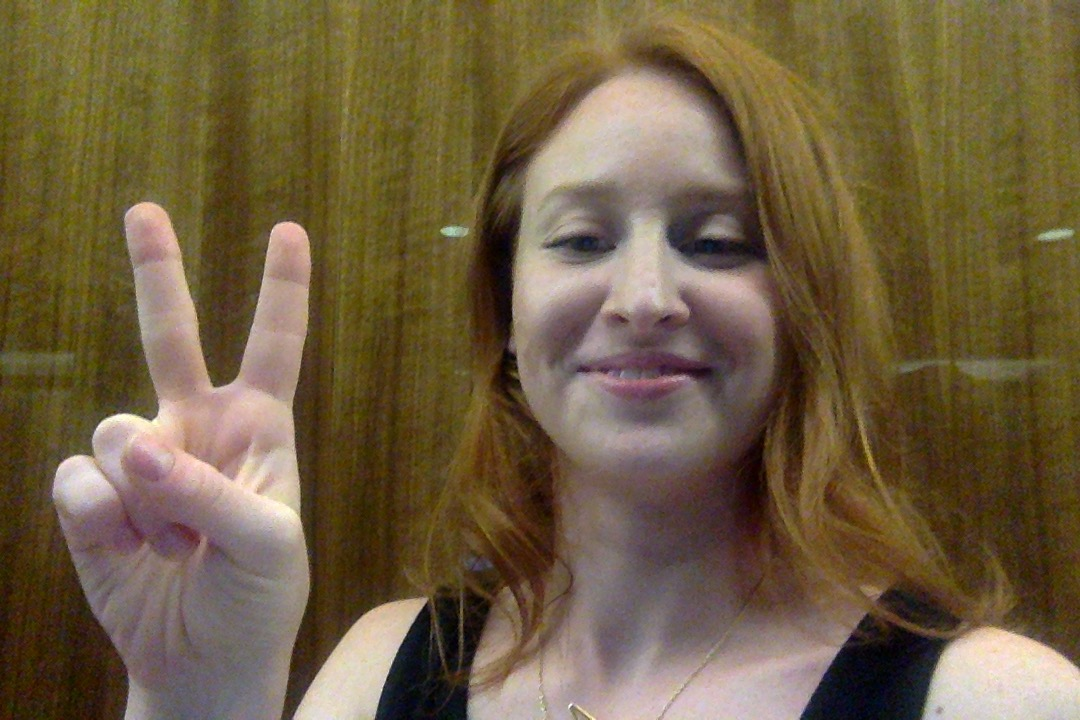v: (44, 198, 330, 655)
